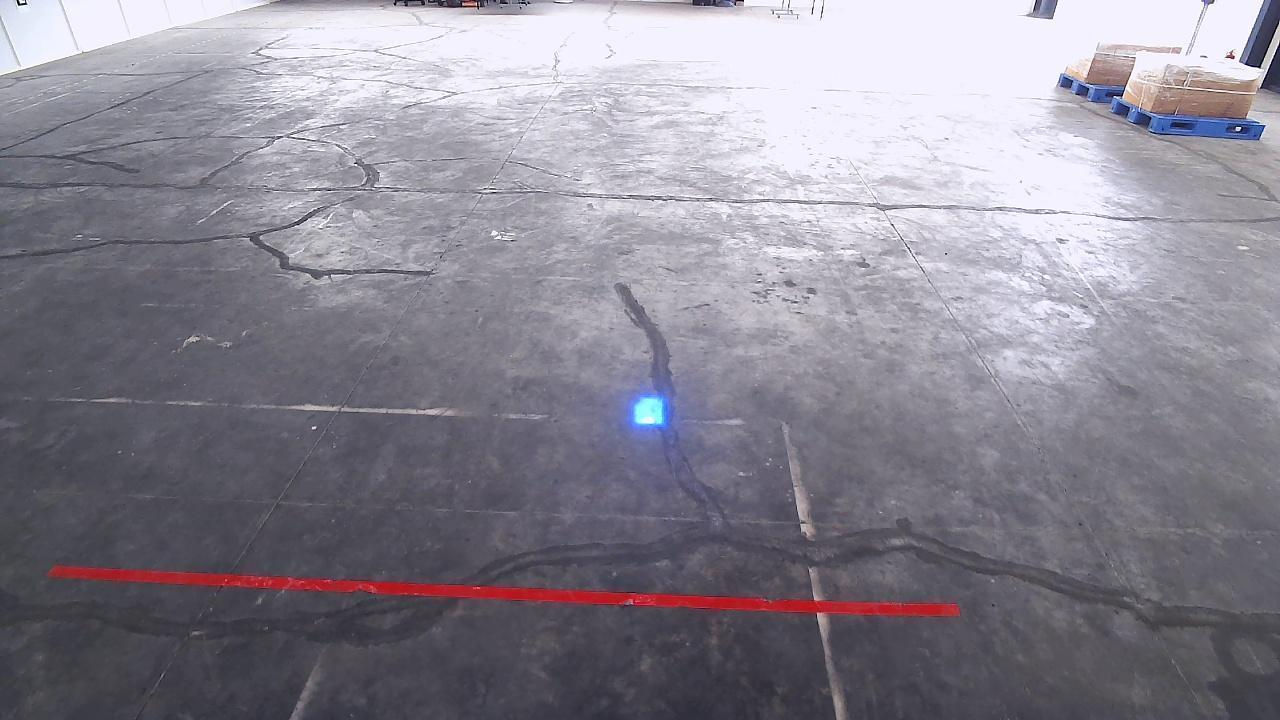red_line: (50, 564, 962, 616)
